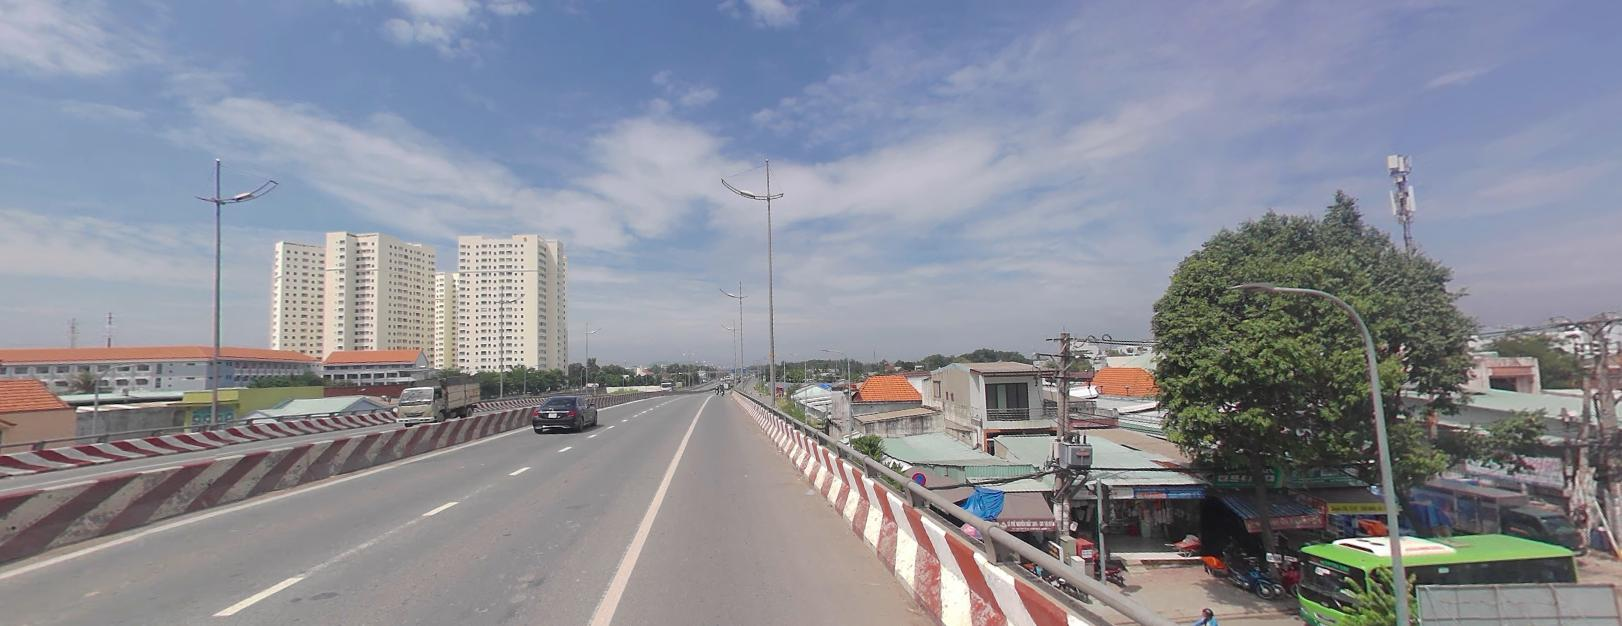Cam dung va do: (910, 470, 926, 486), (911, 470, 926, 484)
